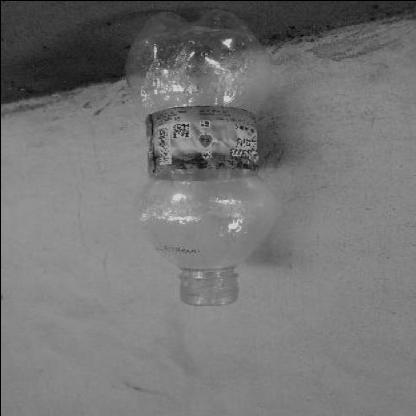plastic_bottles: (129, 4, 276, 308)
